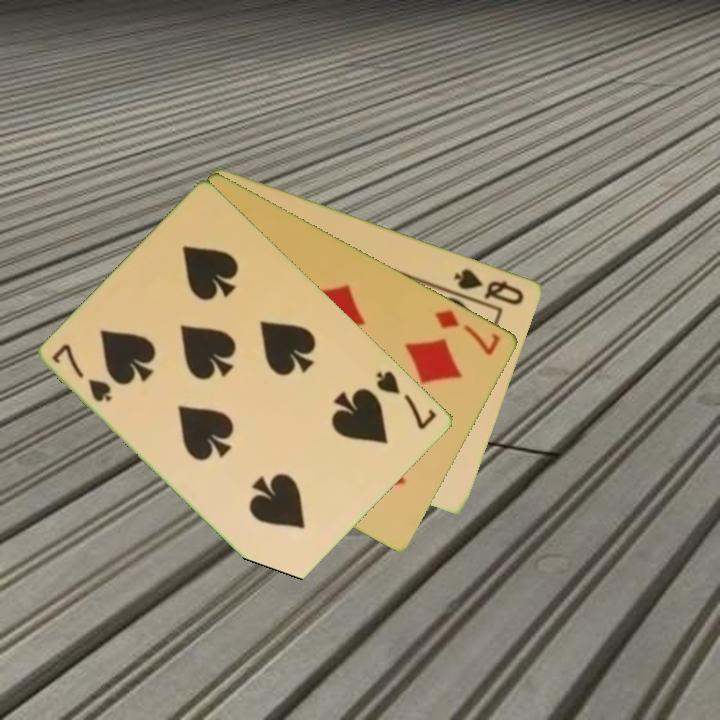7d: (431, 305, 504, 358)
7s: (373, 367, 440, 433), (48, 340, 116, 405)
Qs: (450, 264, 528, 308)
